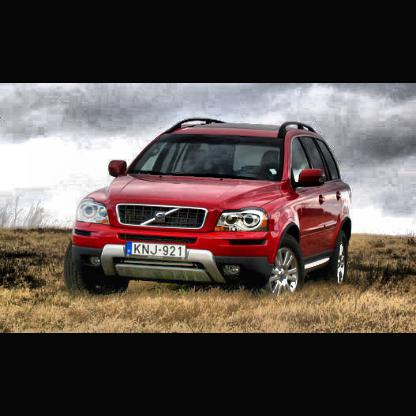Volvo XC90 SUV 2007: (65, 118, 355, 298)
